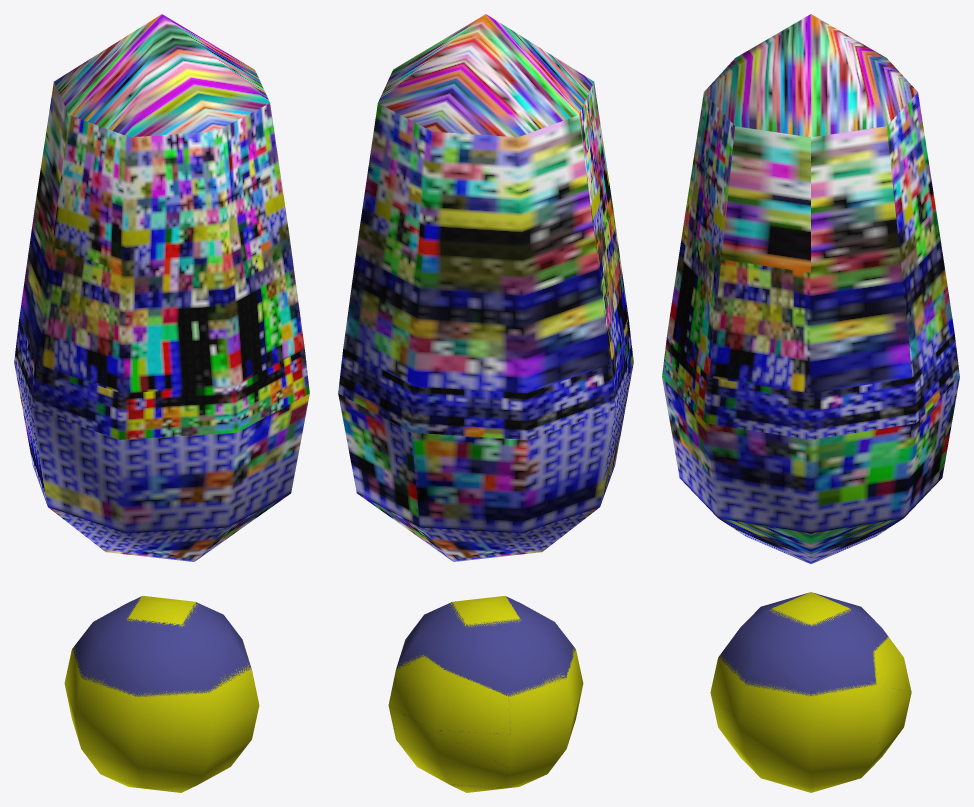
File: cloth_tengallon_model.glb
3 views of the same model, side by side, from view 1: azimuth 30°, elevation 25°; view 2: azimuth 150°, elevation 25°; view 3: azimuth 270°, elevation 25° (orthographic).
Visible parts, largest first — view 1: cloth_tengallon_model; view 2: cloth_tengallon_model; view 3: cloth_tengallon_model.
Boxes of the visible parts, x1=… form: cloth_tengallon_model: x1=14, y1=14, x2=309, y2=792; cloth_tengallon_model: x1=338, y1=14, x2=633, y2=792; cloth_tengallon_model: x1=662, y1=14, x2=959, y2=792.
Bounding box in the file's own units: 30.27 × 86.34 × 30.29.
1 material, 1 textured.
